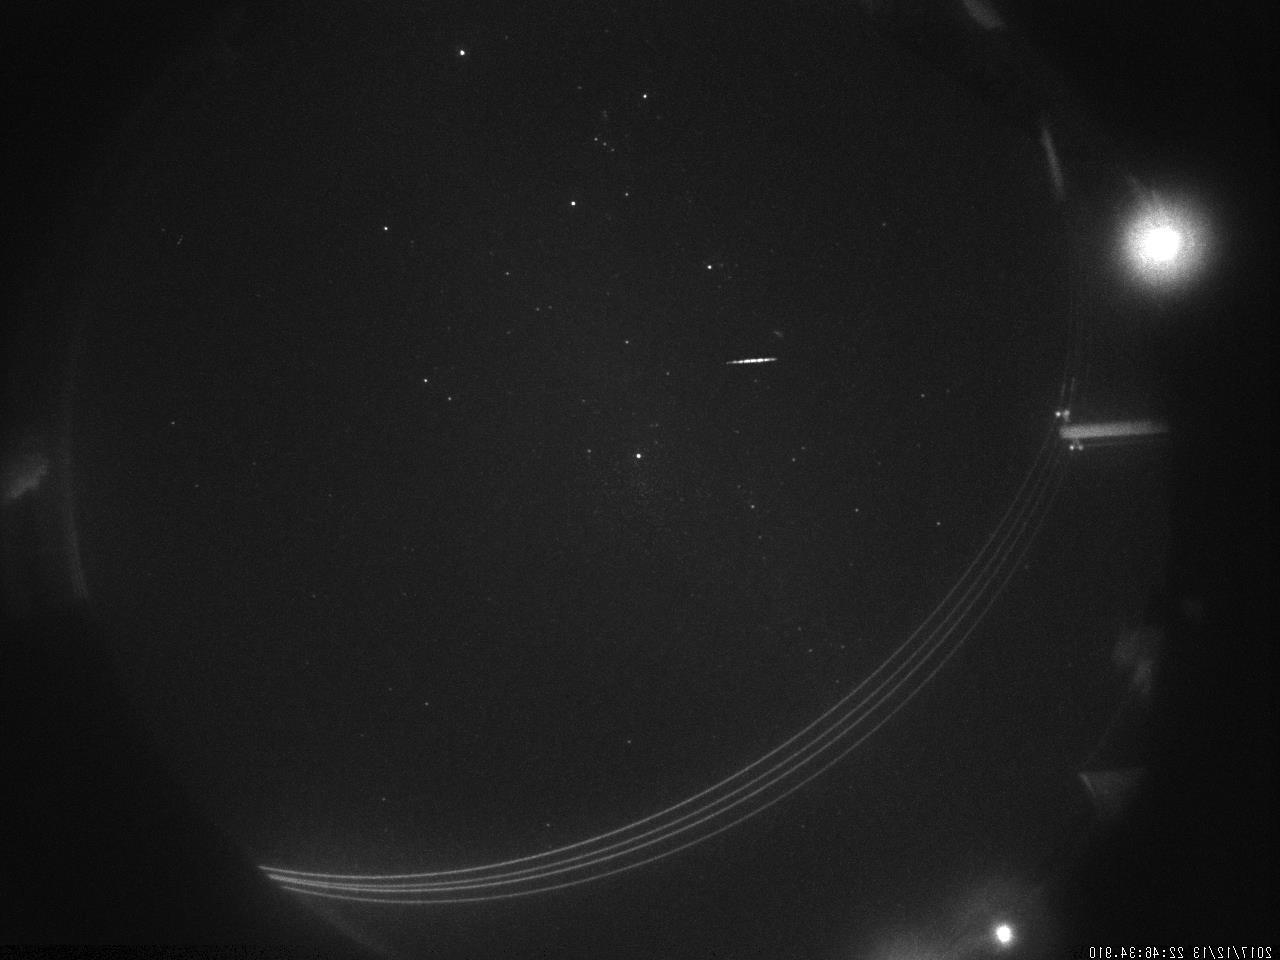meteor: (707, 346, 793, 380)
